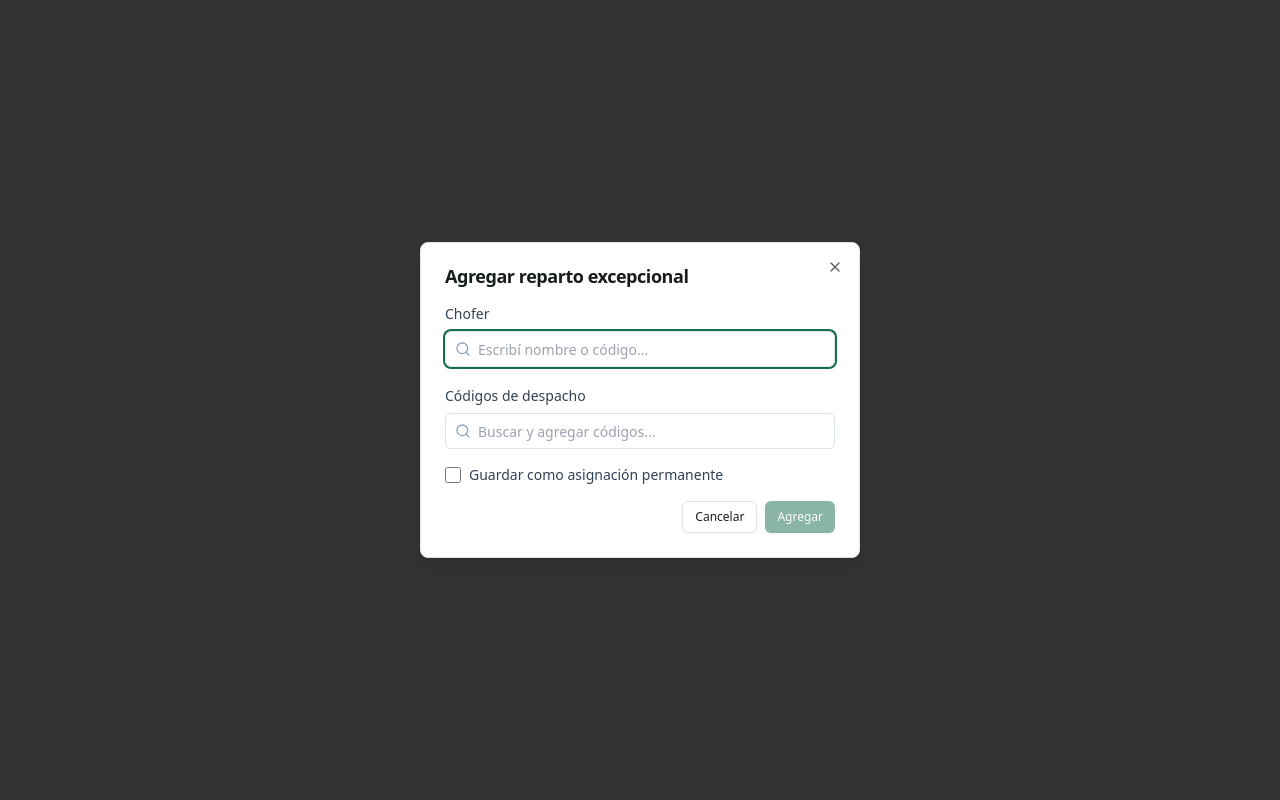
it: RepartoExcepcionalModal › deshabilita códigos que ya son permanentes del chofer
In the field with placeholder "Escribí nombre o código...": (640, 349) [445,331,835,367], type "lop"
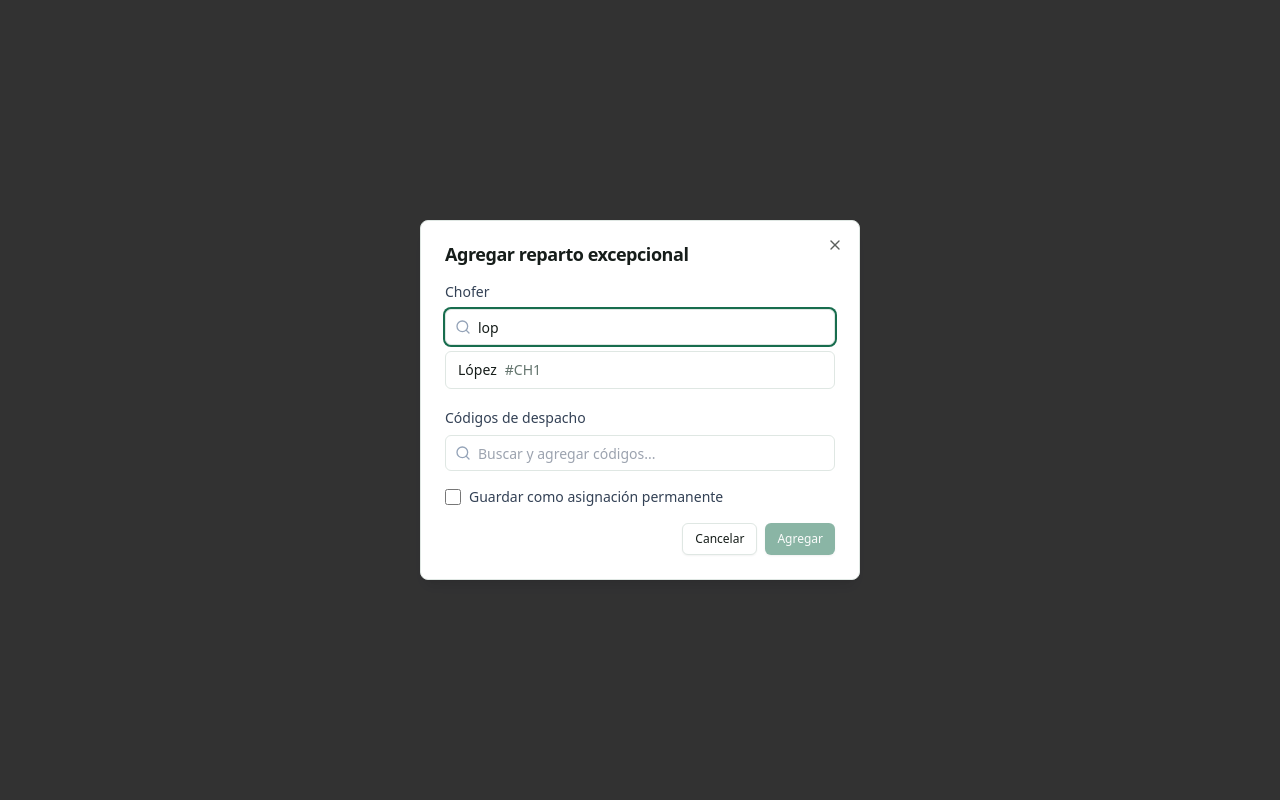
Click the button "López#CH1": (477, 370) [446,352,834,388]
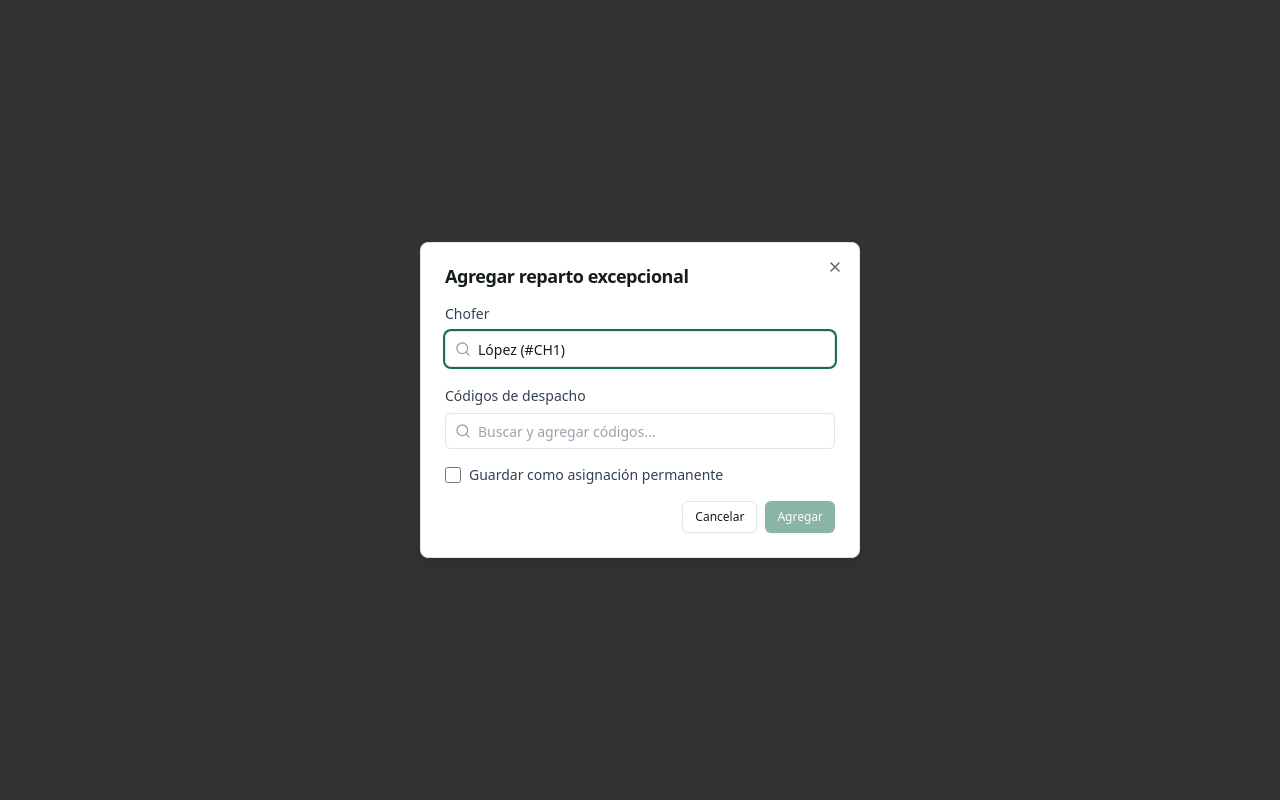
In the field with placeholder "Buscar y agregar códigos...": (640, 431) [445,413,835,449], type "ruta"
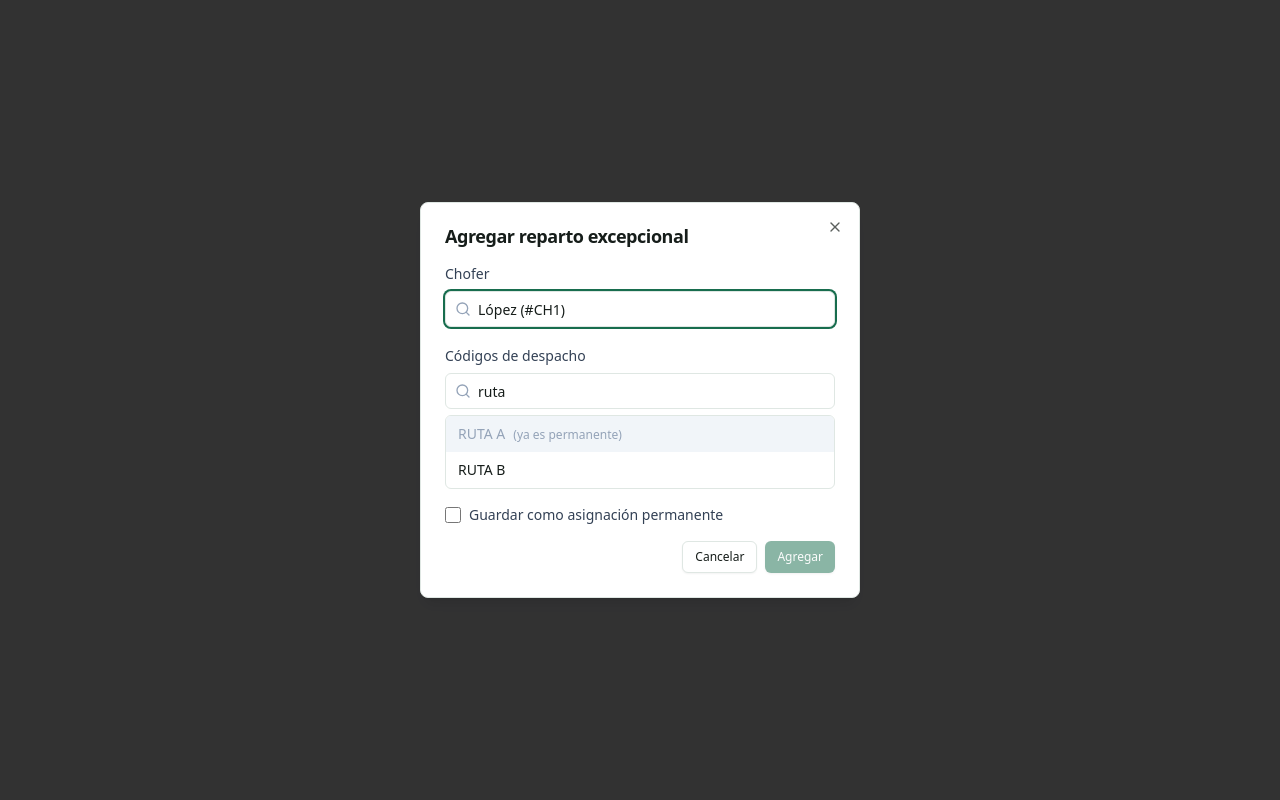
Expected: the button "RUTA A(ya es permanente)" is disabled, [446,416,834,452]
